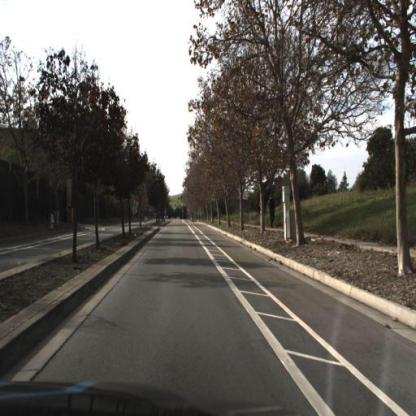pedestrian: (268, 193, 279, 231), (270, 197, 276, 227)
